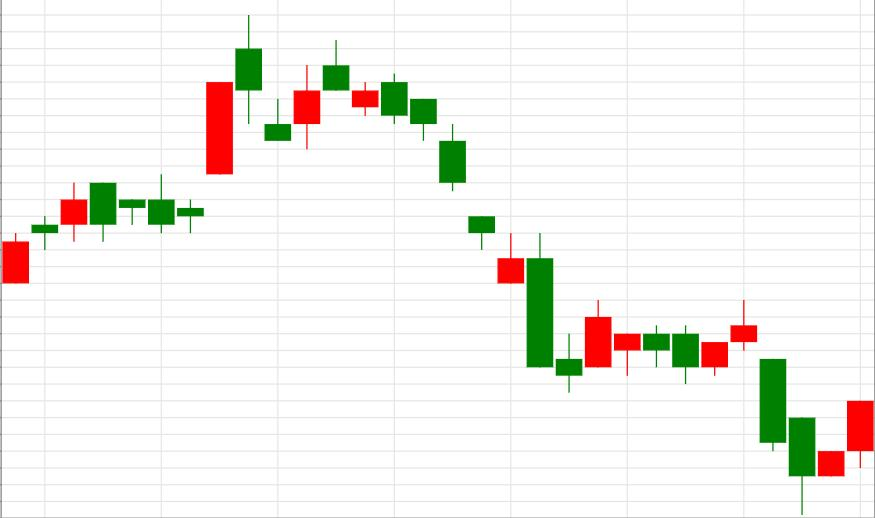morning_star_rise: (322, 38, 612, 392)
